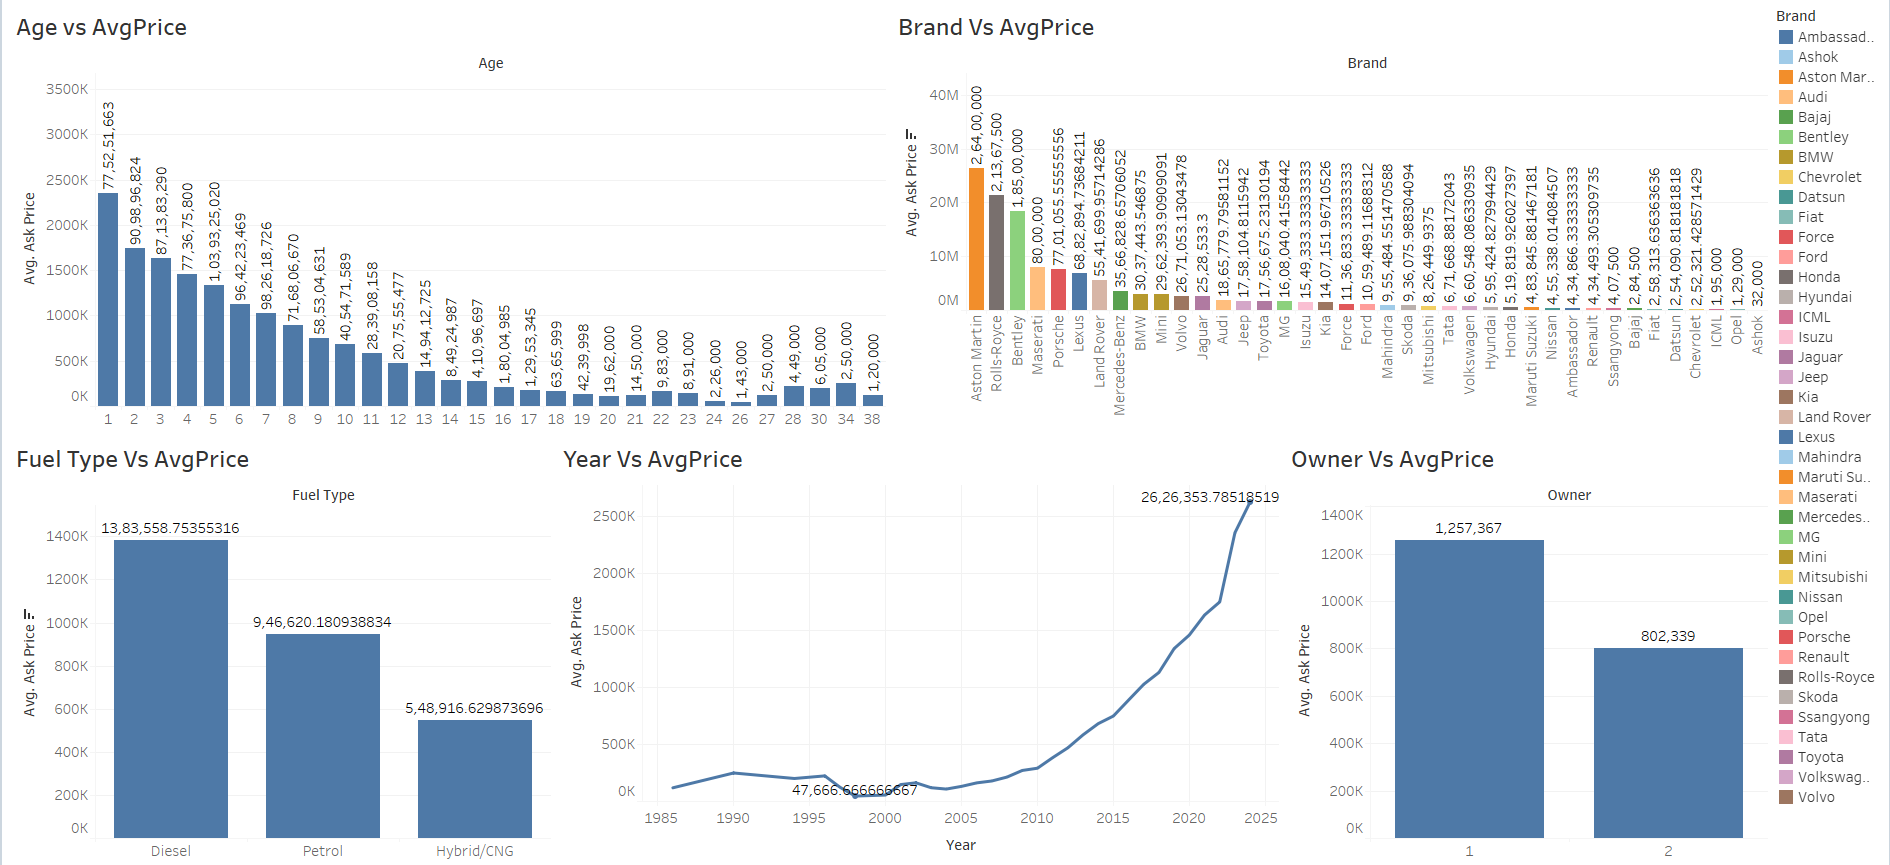

What the dashboard file says about the page in this screenshot:
{"tool":"tableau","page":{"name":"Dashboard 1","canvas":[1000,1000],"units":"permille","ordinal":0},"visuals":[{"type":"worksheet","title":"Sheet 1","mark":"Automatic","rows":["AskPrice"],"cols":["Age"],"box":[4.2,9.1,466.4,490.9]},{"type":"worksheet","title":"Sheet 2","mark":"Automatic","rows":["AskPrice"],"cols":["Brand"],"box":[470.6,9.1,466.5,490.9]},{"type":"legend","title":"Sheet 2","param":"[federated.1odxm8x0ih5pro1465eag0hk5ix7].[none:Brand:nk]","box":[937.1,9.1,58.7,919.3]},{"type":"worksheet","title":"Sheet 5","mark":"Automatic","rows":["AskPrice"],"cols":["FuelType"],"box":[4.2,500,289.1,490.9]},{"type":"worksheet","title":"Sheet 4","mark":"Automatic","rows":["AskPrice"],"cols":["Year"],"box":[293.3,500,385.3,490.9]},{"type":"worksheet","title":"Sheet 6","mark":"Automatic","rows":["AskPrice"],"cols":["Owner"],"box":[678.6,500,258.5,490.9]}]}

Visuals, with their boxes on the dashboard's canvas, which has no fixed pixel size, in thousandths of its width and height (x1, y1, x2, y2). These are canvas units, not pixel positions in the 1890x865 screenshot, which may show the page scaled, cropped or inside an application window:
"Sheet 1" worksheet: 4,9,471,500
"Sheet 2" worksheet: 471,9,937,500
"Sheet 2" legend: 937,9,996,928
"Sheet 5" worksheet: 4,500,293,991
"Sheet 4" worksheet: 293,500,679,991
"Sheet 6" worksheet: 679,500,937,991
